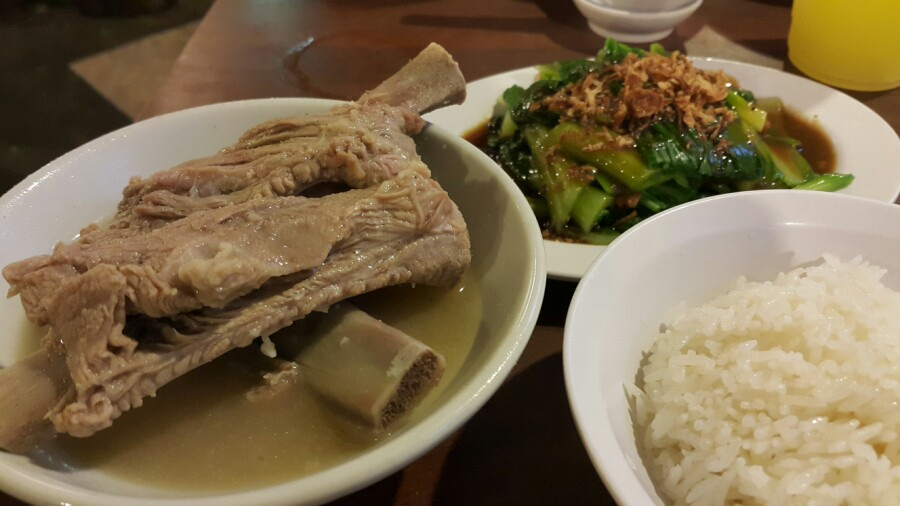chopped lettuce: (525, 35, 788, 185)
plain rice: (677, 273, 859, 482)
